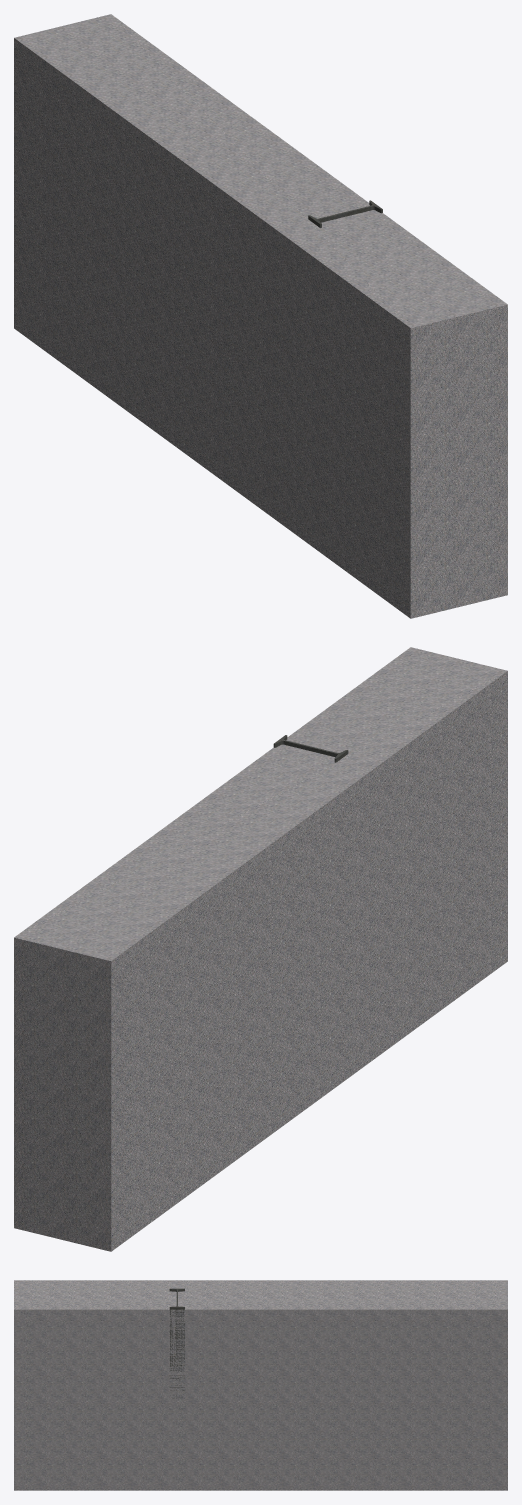
3 views of the same model, one above another, from view 1: azimuth 30°, elevation 25°; view 2: azimuth 150°, elevation 25°; view 3: azimuth 270°, elevation 25° (orthographic). The views are drawn at different scales.
Parts seen in each view (by area): view 1: 0_3_1_2_1_1_3_3_0; view 2: 0_3_1_2_1_1_3_3_0; view 3: 0_3_1_2_1_1_3_3_0.
Boxes of the visible parts, x1=… form: 0_3_1_2_1_1_3_3_0: x1=14, y1=14, x2=507, y2=618; 0_3_1_2_1_1_3_3_0: x1=14, y1=647, x2=507, y2=1251; 0_3_1_2_1_1_3_3_0: x1=14, y1=1280, x2=507, y2=1490.
Size of the model in its own units: 0.7 by 2.03 by 4.95.
2 materials, 2 textured.
